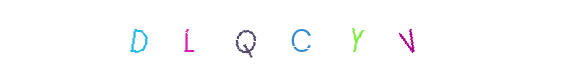C: (250, 0, 330, 80)
D: (164, 0, 244, 80)
L: (206, 0, 286, 80)
Q: (236, 0, 316, 80)
V: (316, 0, 396, 80)
Y: (301, 0, 381, 80)
